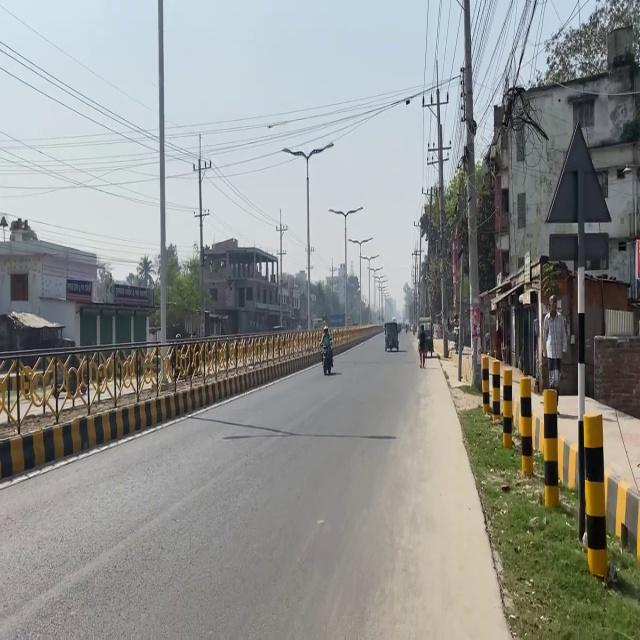Bench: (470, 334, 634, 584)
Construction-barrier: (433, 350, 514, 638)
Downstairs: (383, 321, 399, 351)
Garbage-bin: (540, 294, 569, 392), (319, 326, 333, 375), (416, 324, 427, 368)
Light-pole: (458, 0, 482, 390), (156, 0, 168, 381), (575, 171, 586, 541)
Pole: (2, 330, 236, 502)
Pothole: (534, 411, 640, 577)
